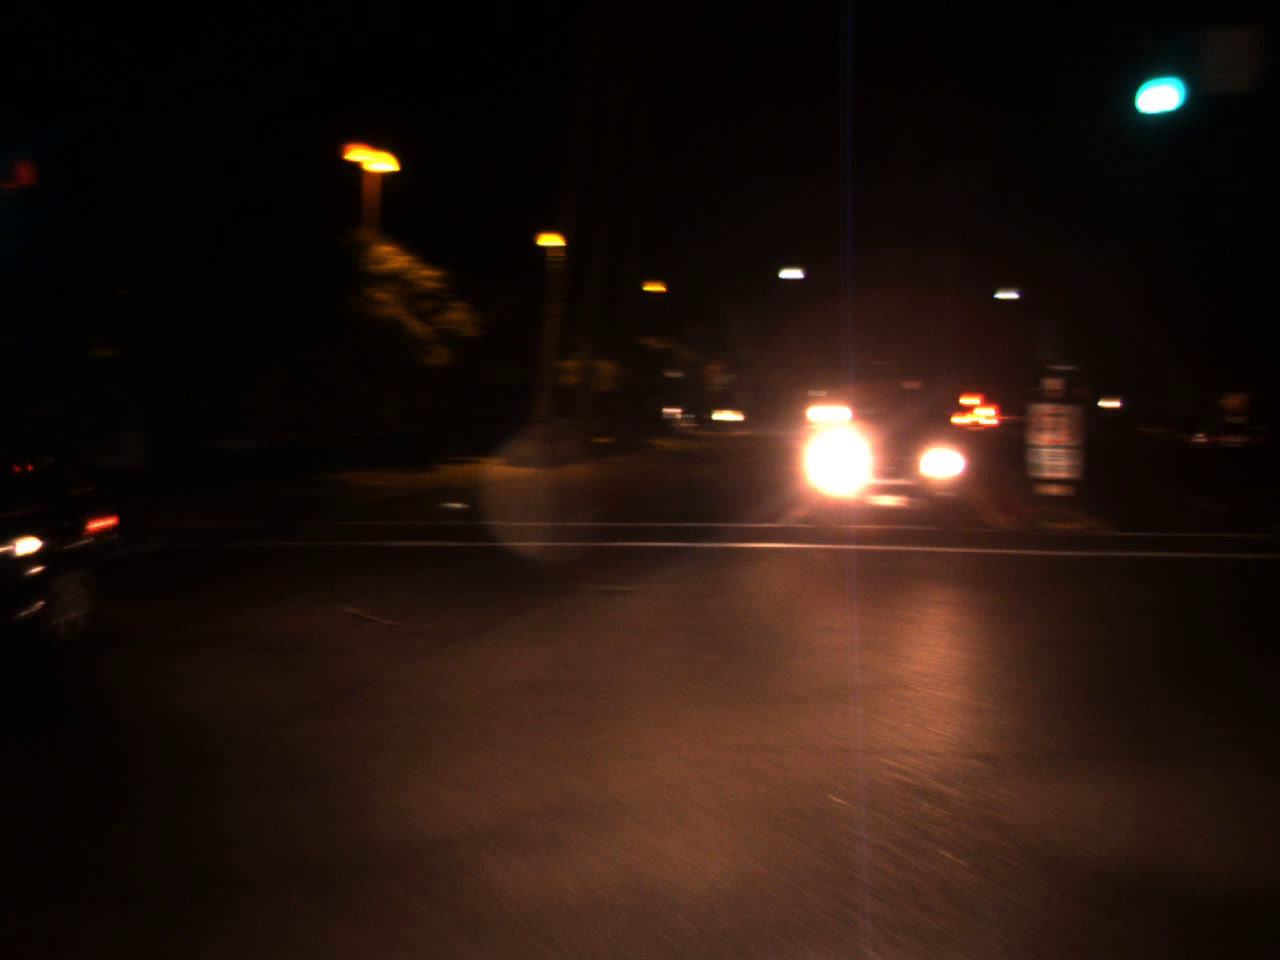go: (1127, 47, 1179, 125)
